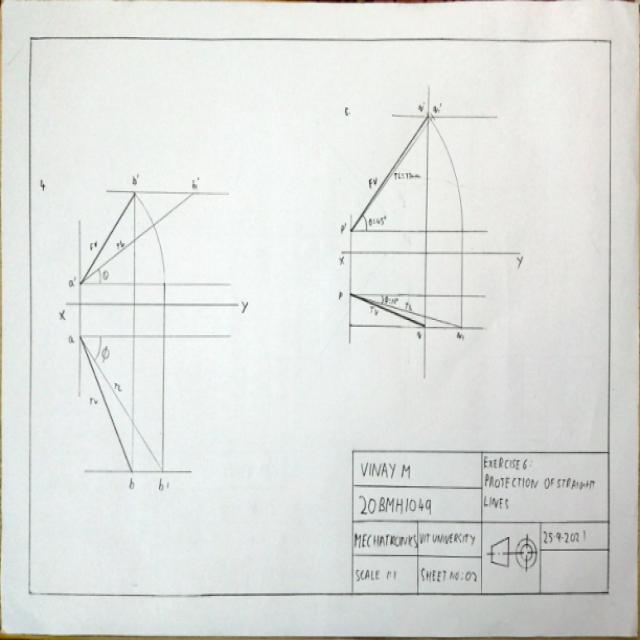Drawings: (53, 168, 257, 505), (331, 70, 535, 390)
